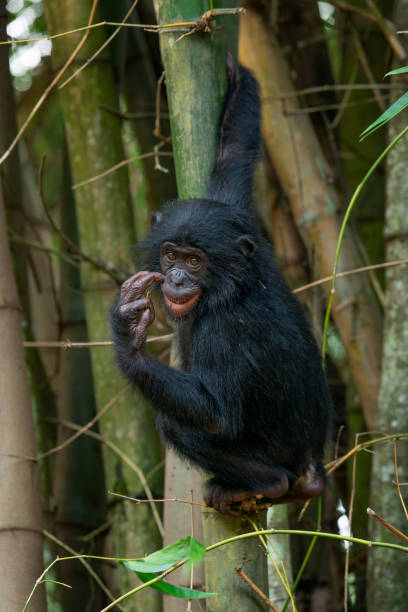chimpanzee: (130, 191, 264, 341)
